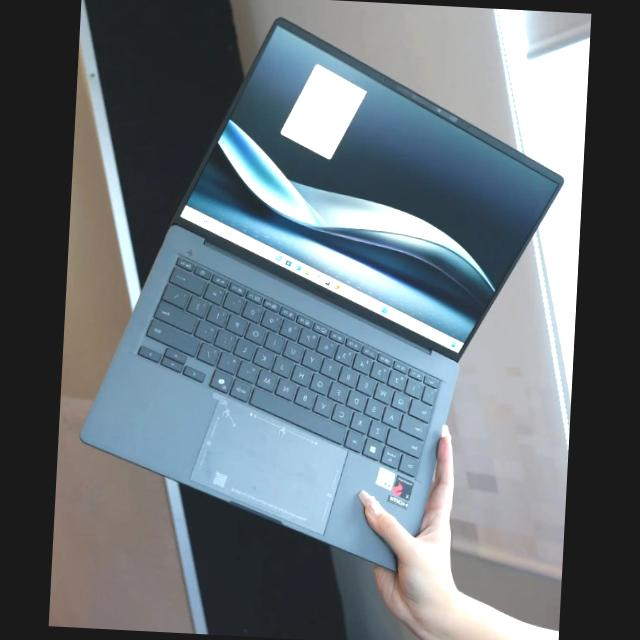laptop: (89, 14, 574, 566)
